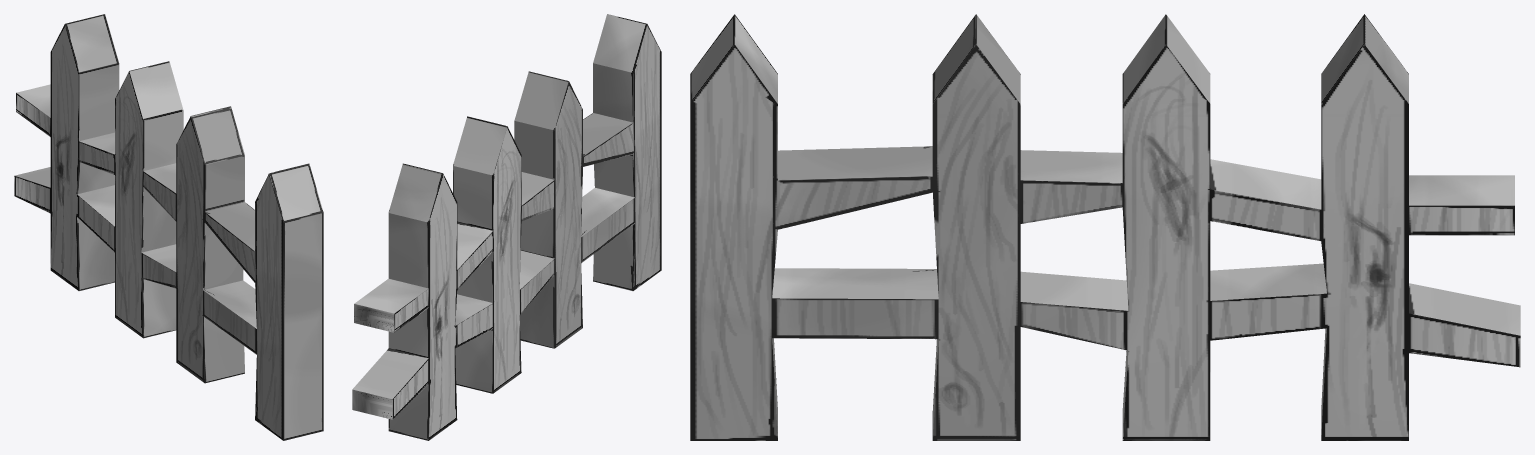
The model's file is AITA 2.0.fbx.
3 views of the same model, side by side, from view 1: azimuth 30°, elevation 25°; view 2: azimuth 150°, elevation 25°; view 3: azimuth 270°, elevation 25° (orthographic). The views are drawn at different scales.
Parts seen in each view (by area): view 1: AITA; view 2: AITA; view 3: AITA.
Part boxes in pixels (left/top/right/bottom): AITA: left=14, top=14, right=323, bottom=440; AITA: left=352, top=14, right=661, bottom=440; AITA: left=690, top=14, right=1520, bottom=440.
Size of the model in its own units: 40.9 by 250 by 474.
